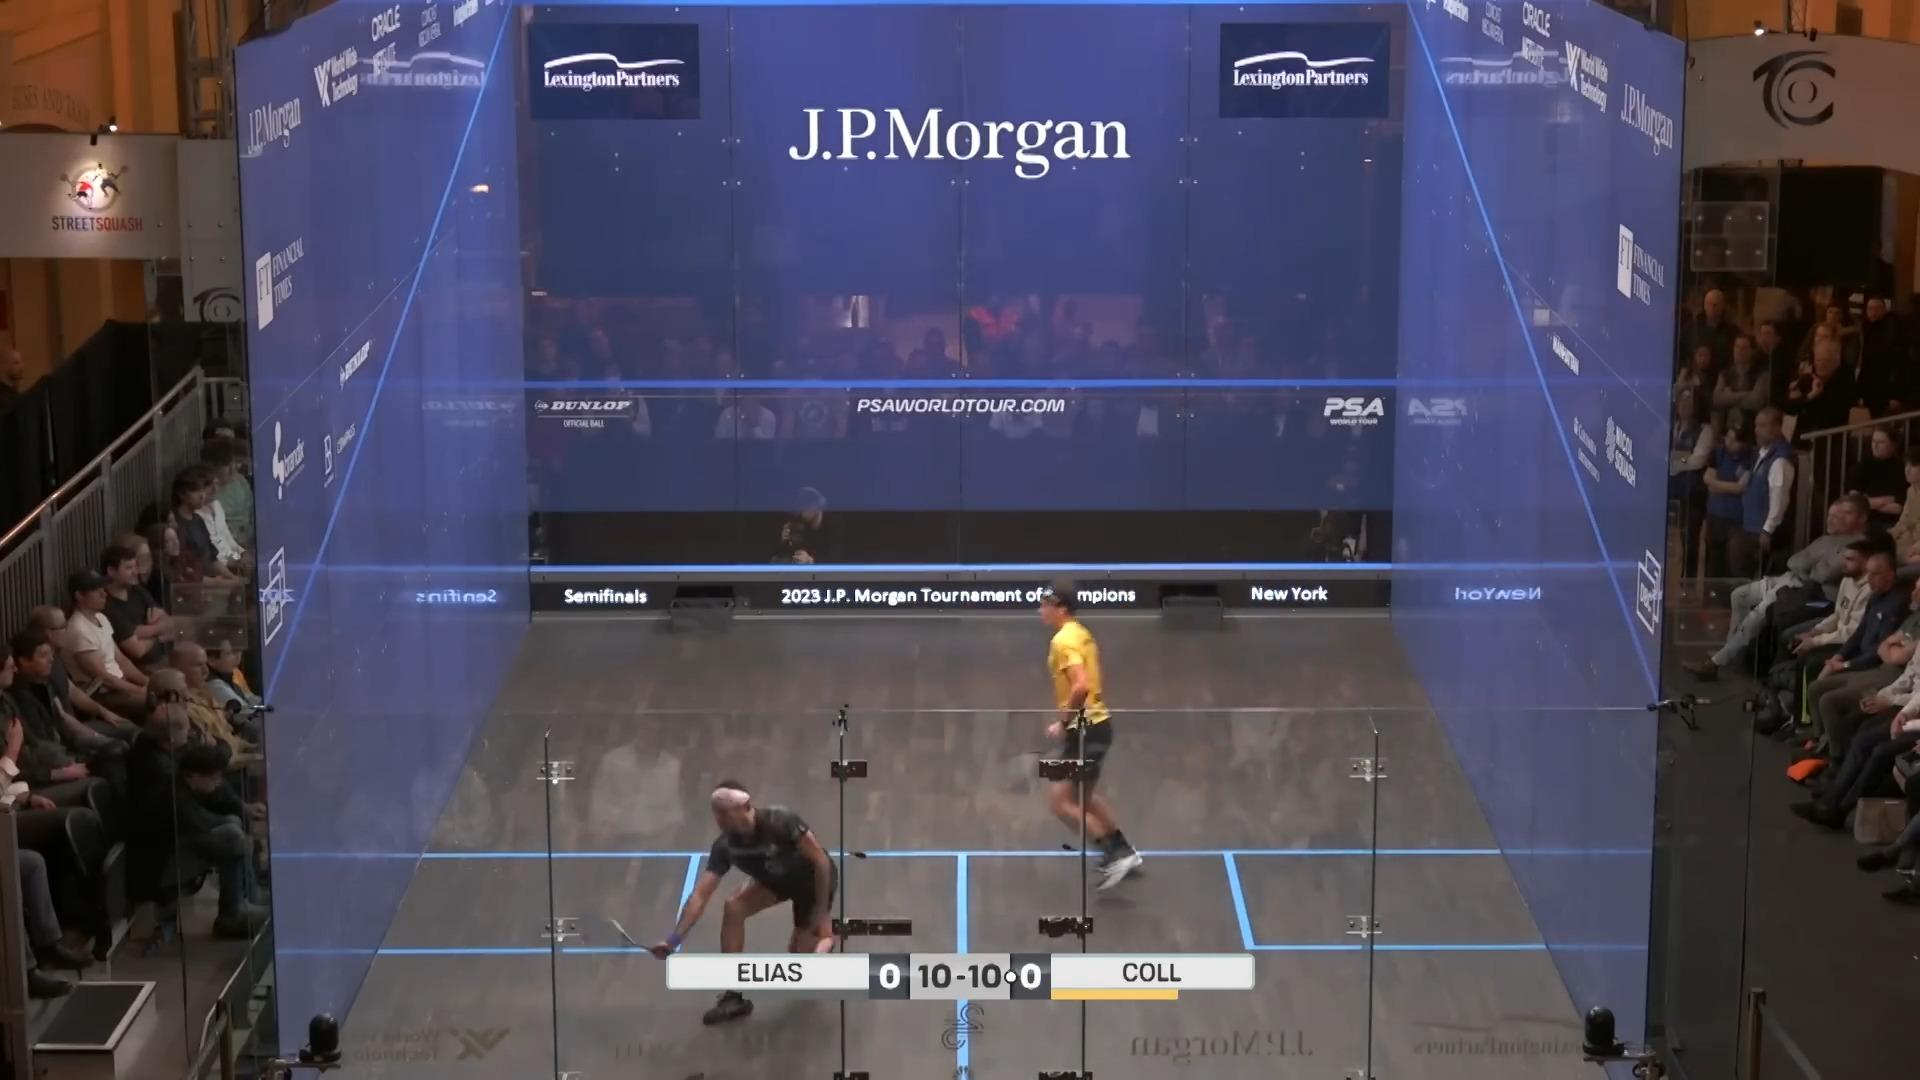Racket: (563, 902, 661, 965)
